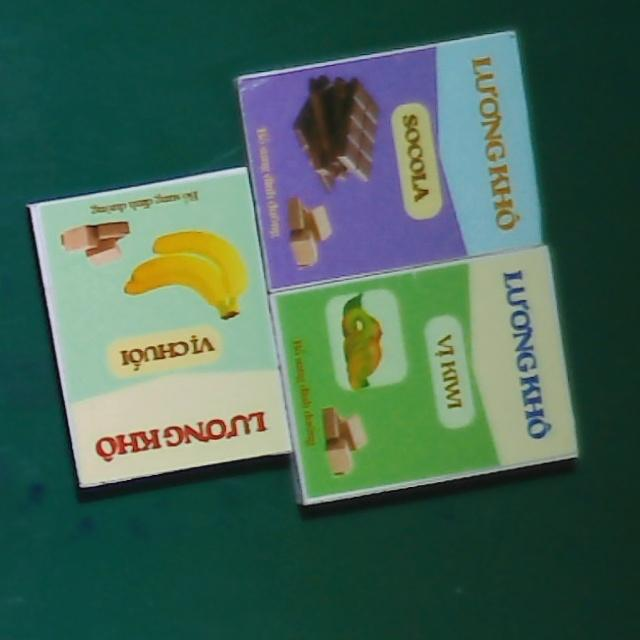chuoi: (29, 167, 295, 488)
kiwi: (269, 244, 580, 503)
socola: (234, 30, 549, 288)
